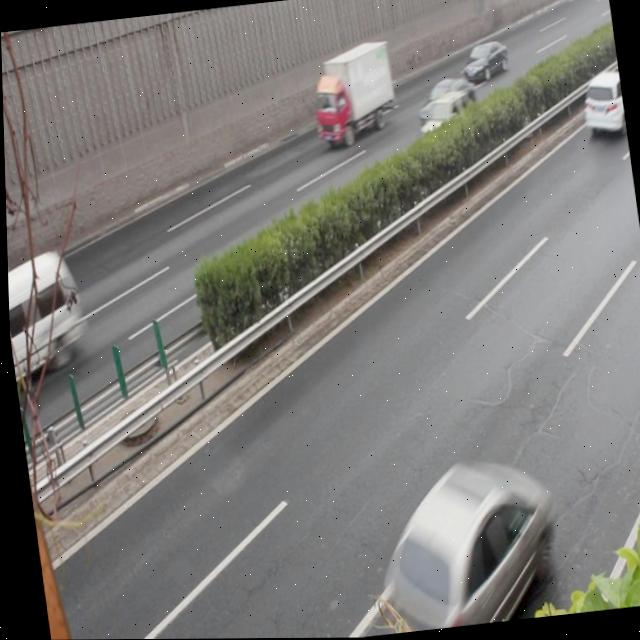bus: (304, 39, 398, 146)
car: (364, 454, 557, 634), (413, 90, 474, 152), (413, 77, 477, 133), (577, 68, 625, 138), (460, 40, 509, 88)
truck: (6, 248, 87, 381)
